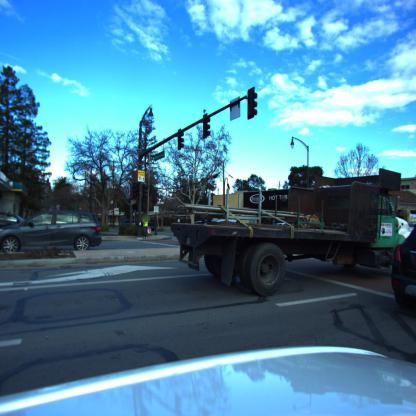car: (1, 209, 102, 254), (386, 212, 416, 323)
traffic light: (247, 89, 258, 121), (202, 115, 211, 140)
truck: (164, 170, 415, 298)
